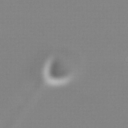normal: (1, 78, 46, 128)
